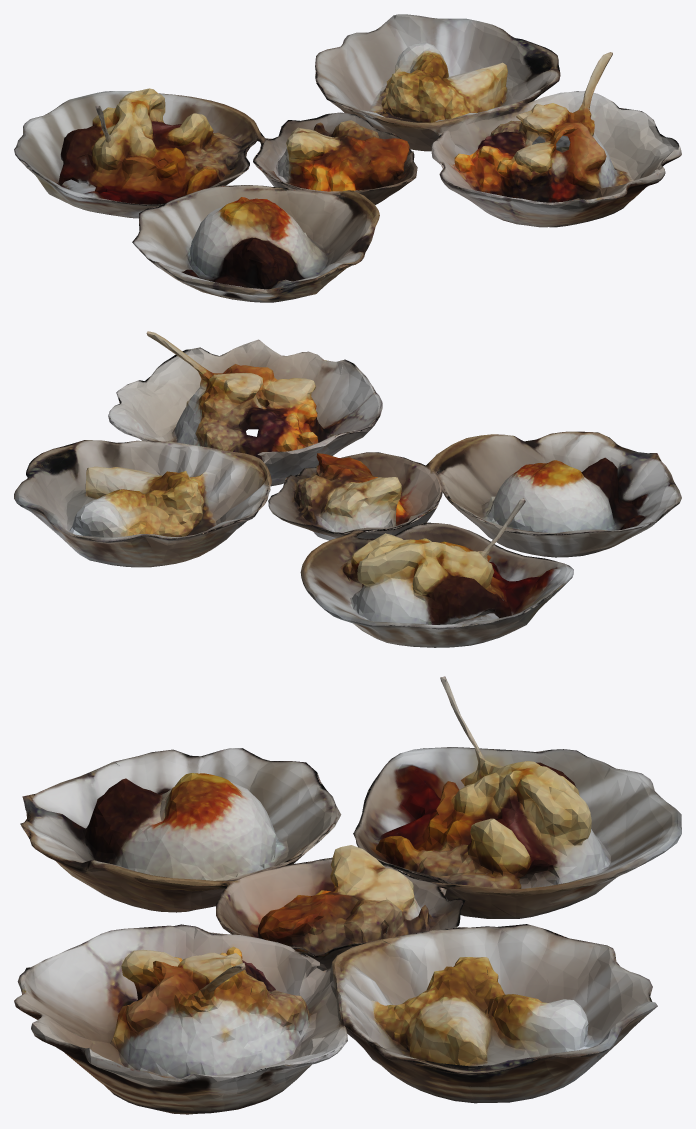
The model's file is warung-sate-babi-nyoman-bledor.glb.
3 renders of one model, top to bottom at view 1: azimuth 30°, elevation 25°; view 2: azimuth 150°, elevation 25°; view 3: azimuth 270°, elevation 25°, orthographic. The views are drawn at different scales.
Parts seen in each view (by area): view 1: world; view 2: world; view 3: world.
Boxes of the visible parts, x1=… form: world: x1=14, y1=14, x2=681, y2=302; world: x1=14, y1=331, x2=681, y2=647; world: x1=14, y1=676, x2=681, y2=1114.
Size of the model in its own units: 1 by 0.2144 by 0.8356.
Materials: 1 (1 with a texture image).
